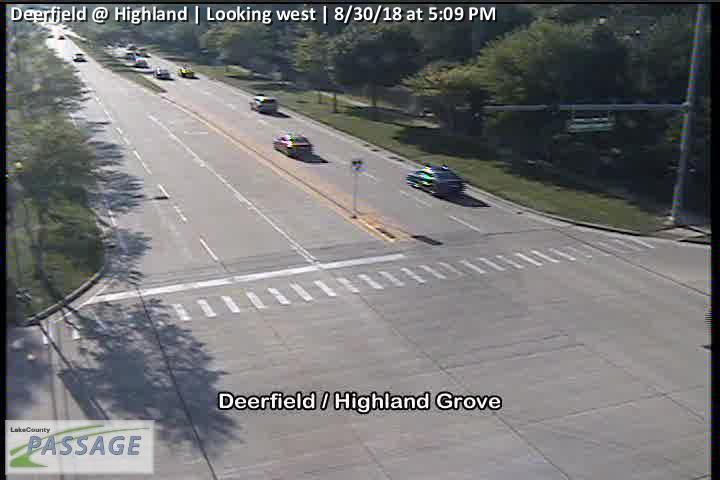SUV: (249, 94, 278, 113)
Sedan: (406, 164, 465, 196), (272, 130, 312, 157)
